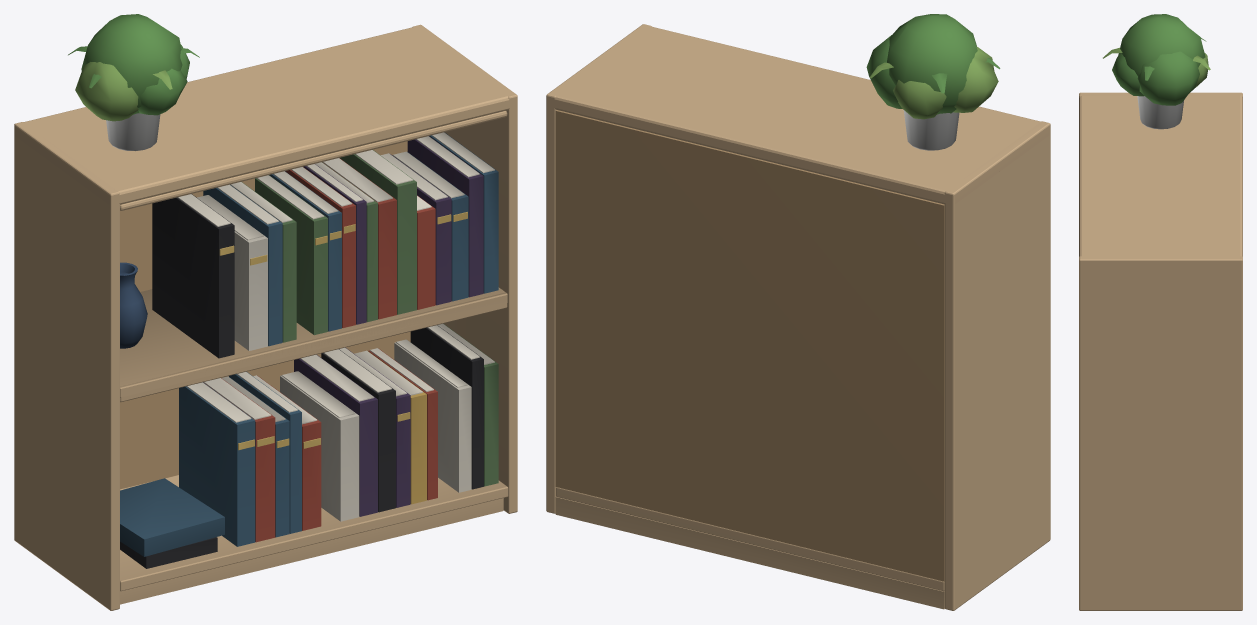
The model's file is bookcaseLow.glb.
The picture shows the model from 3 angles, left to right: view 1: azimuth 30°, elevation 25°; view 2: azimuth 150°, elevation 25°; view 3: azimuth 270°, elevation 25°; orthographic projection. The views are drawn at different scales.
Visible parts, largest first — view 1: bookcaseLow, book; view 2: bookcaseLow; view 3: bookcaseLow.
Part boxes in pixels (x1,y1,x2,y2): bookcaseLow: (14,14,517,610); book: (417,195,435,309); bookcaseLow: (546,14,1050,610); bookcaseLow: (1079,14,1242,610).
Bounding box in the file's own units: 0.92 × 1.17 × 0.38.
